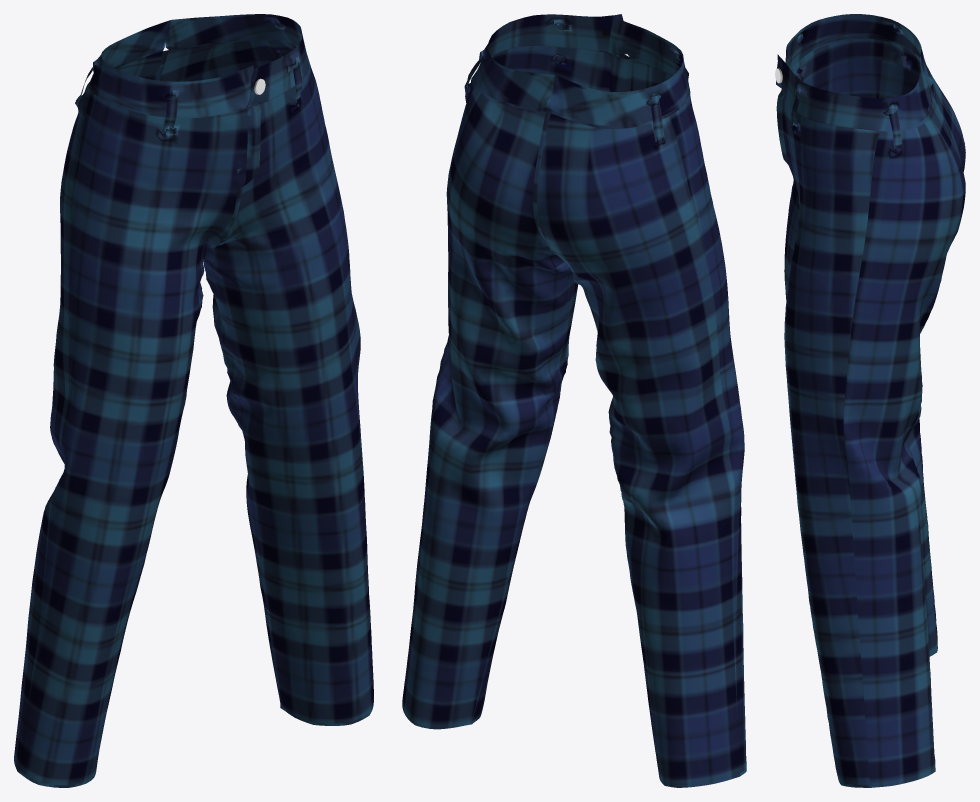
3 renders of one model, left to right at view 1: azimuth 30°, elevation 25°; view 2: azimuth 150°, elevation 25°; view 3: azimuth 270°, elevation 25°, orthographic. The views are drawn at different scales.
Visible parts, largest first — view 1: Model_3; view 2: Model_3; view 3: Model_3.
Boxes of the visible parts, bbox=[...] form: Model_3: bbox=[14, 14, 373, 787]; Model_3: bbox=[402, 14, 746, 787]; Model_3: bbox=[775, 14, 965, 787].
Bounding box in the file's own units: 4.74 × 9.3 × 2.41.
2 materials, 1 textured.
